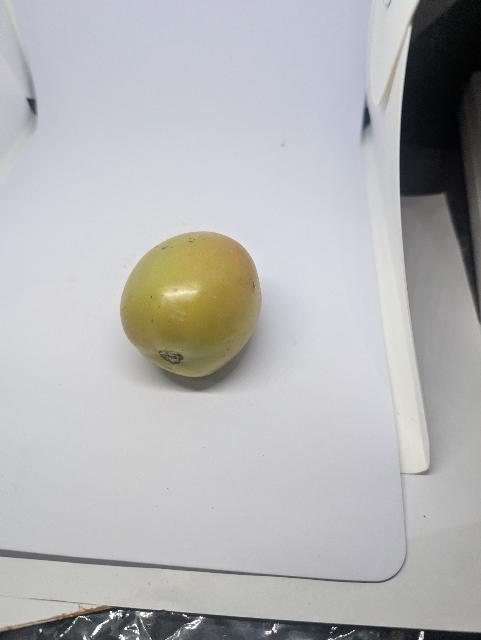breaker: (117, 229, 269, 379)
